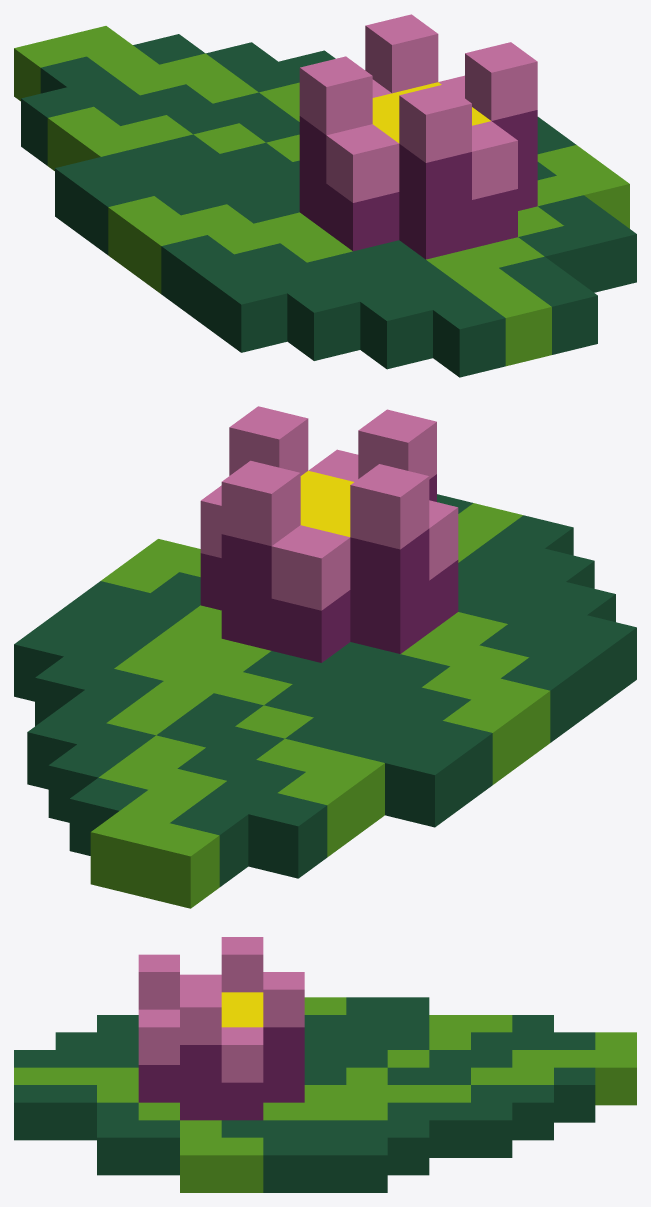
File: lily.obj
3 views of the same model, one above another, from view 1: azimuth 30°, elevation 25°; view 2: azimuth 150°, elevation 25°; view 3: azimuth 270°, elevation 25° (orthographic). The views are drawn at different scales.
Size of the model in its own units: 0.9 by 0.4 by 1.5.
1 material, 1 textured.
